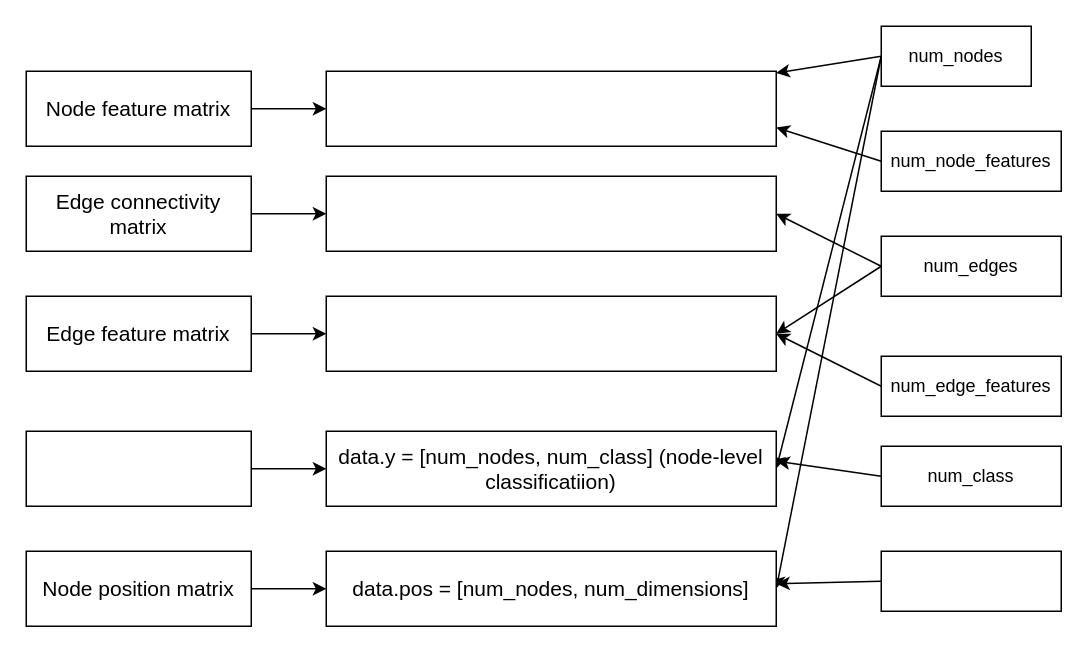
Image size: 1088x653. Some labels were removed from this diagram. Each missing label, with the centre of its shape:
data.edge_attr = [num_edges, num_edge_features]: pixel 550 333
data.edge_index = [2, num_edges]: pixel 550 213
data.x = [num_nodes, num_node_features]: pixel 550 108
num_dimensions: pixel 970 580
Target to train against: pixel 138 468
